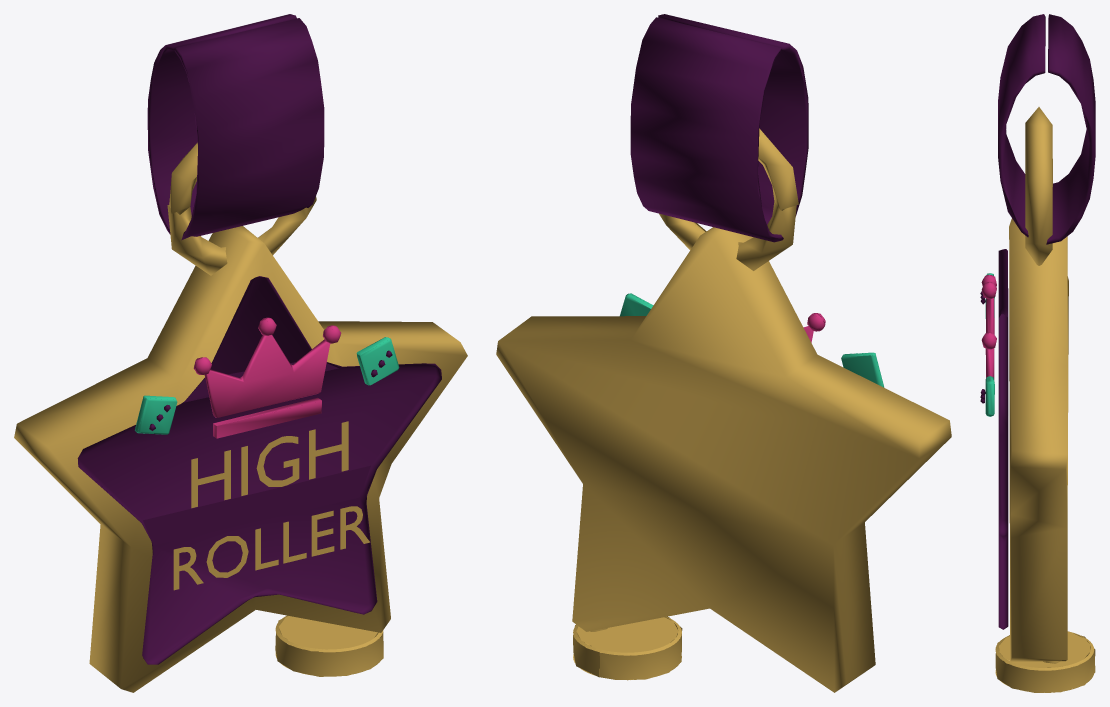
Rendered from high_roller.lod1.glb.
3 views of the same model, side by side, from view 1: azimuth 30°, elevation 25°; view 2: azimuth 150°, elevation 25°; view 3: azimuth 270°, elevation 25° (orthographic). The views are drawn at different scales.
Visible parts, largest first — view 1: high_roller_plum, high_roller_brass, high_roller_pink, preserved_lettering, high_roller_mint; view 2: high_roller_brass, high_roller_plum, high_roller_mint; view 3: high_roller_brass, high_roller_plum, high_roller_pink, high_roller_mint.
Part boxes in pixels (x1,y1,x2,y2): high_roller_plum: (77, 14, 441, 664); high_roller_brass: (14, 142, 467, 692); high_roller_pink: (193, 317, 341, 438); preserved_lettering: (173, 421, 370, 590); high_roller_mint: (135, 337, 399, 434); high_roller_brass: (496, 128, 951, 692); high_roller_plum: (630, 14, 808, 242); high_roller_mint: (620, 293, 884, 387); high_roller_brass: (995, 107, 1095, 692); high_roller_plum: (980, 14, 1095, 629); high_roller_pink: (981, 274, 996, 379); high_roller_mint: (985, 273, 994, 416).
Bounding box in the file's own units: 0.5147 × 0.7498 × 0.1327.
